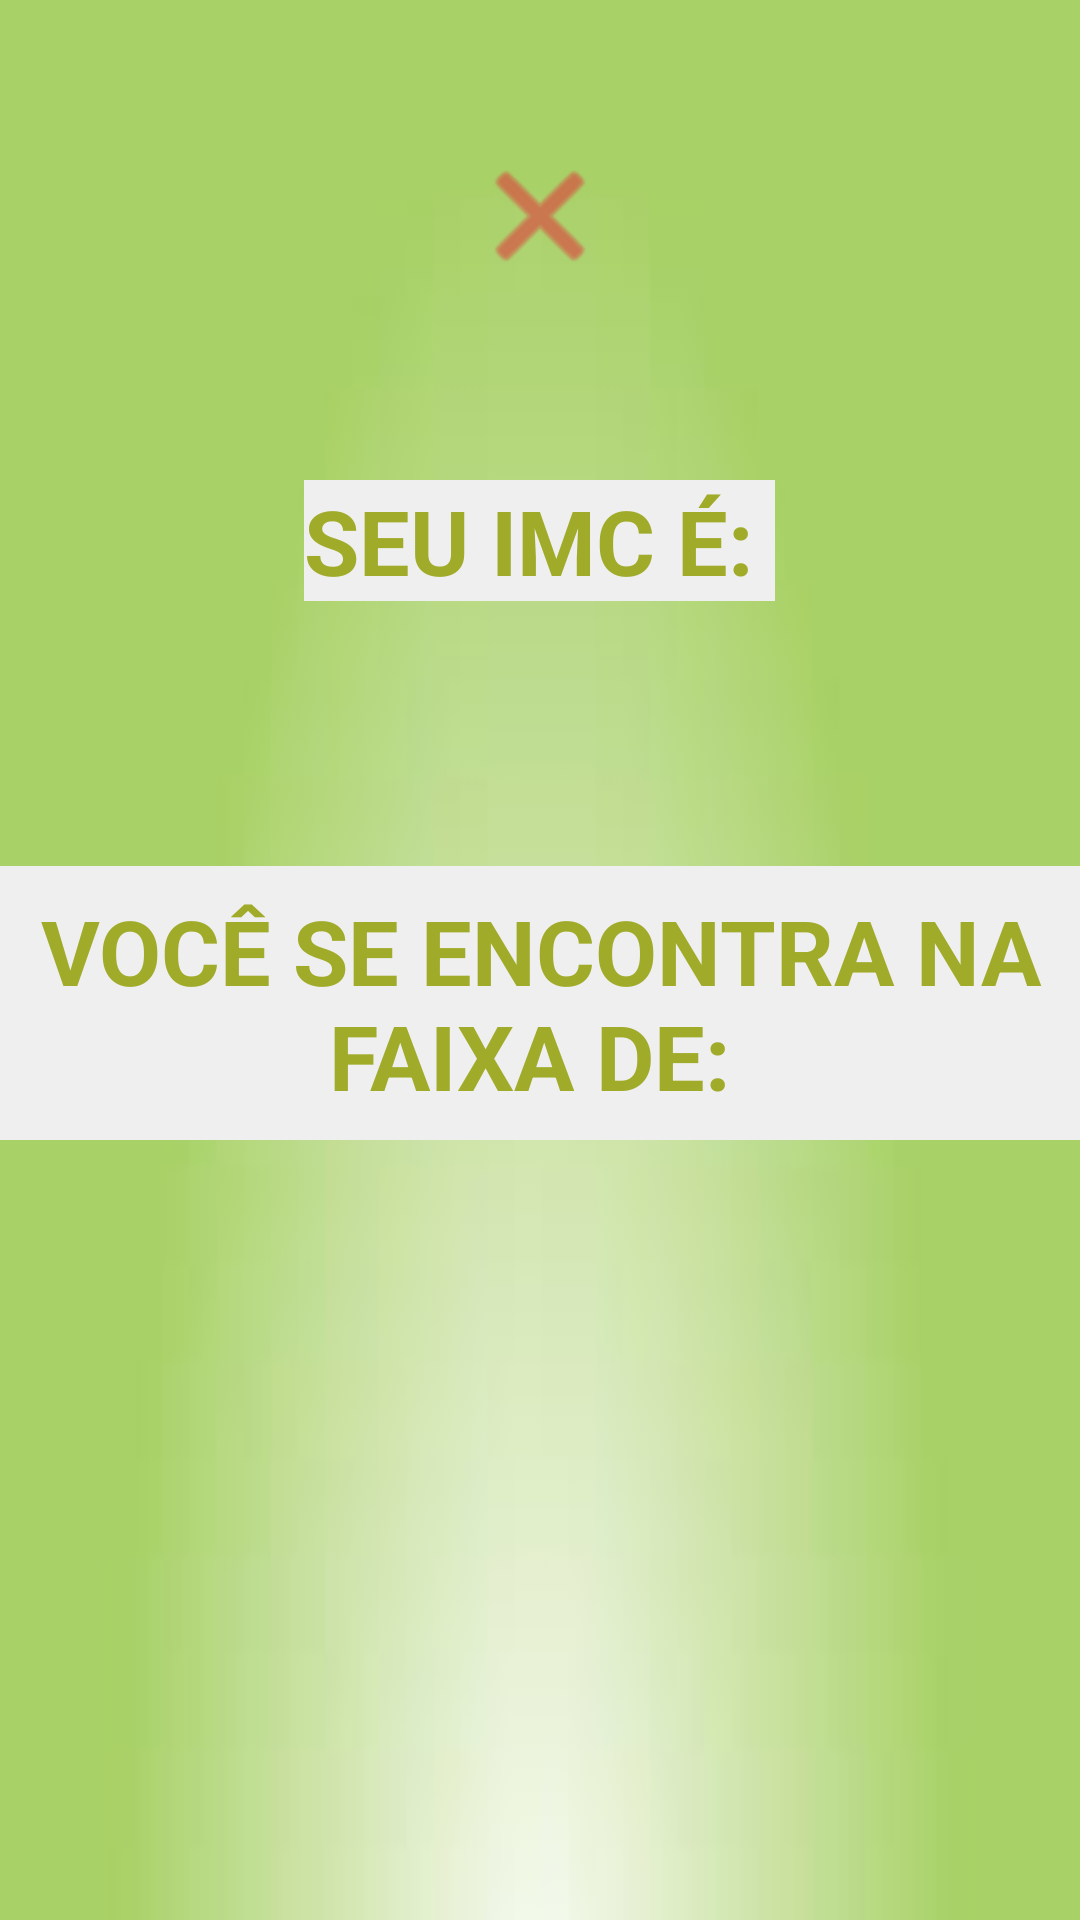

Where icons sit on this 1080px×1920px app screen, as (x1, y1, x2, y2):
close clear cancel: (495, 171, 585, 261)
